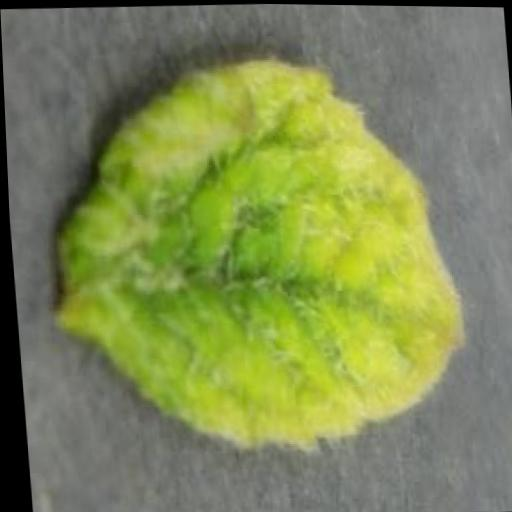Yellow Leaf Curl Virus: (37, 42, 468, 459)
